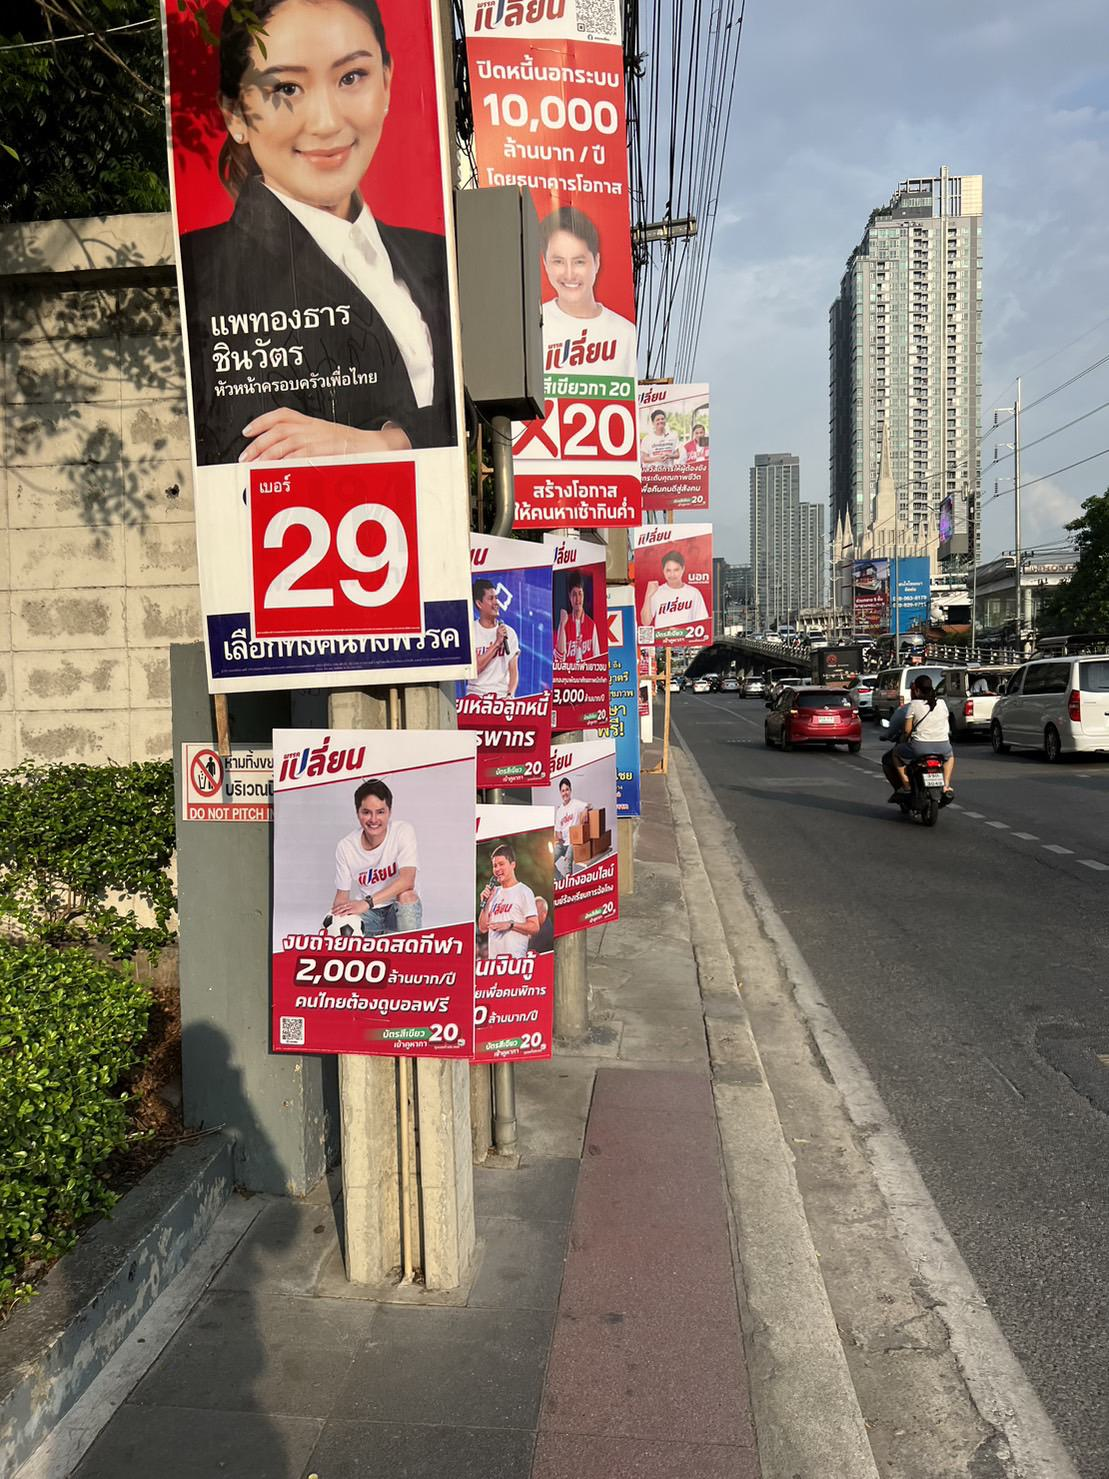Banner: (157, 0, 469, 679), (474, 0, 641, 519), (269, 716, 469, 1054), (629, 521, 718, 657)
